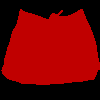gonna: (1, 8, 100, 84)
